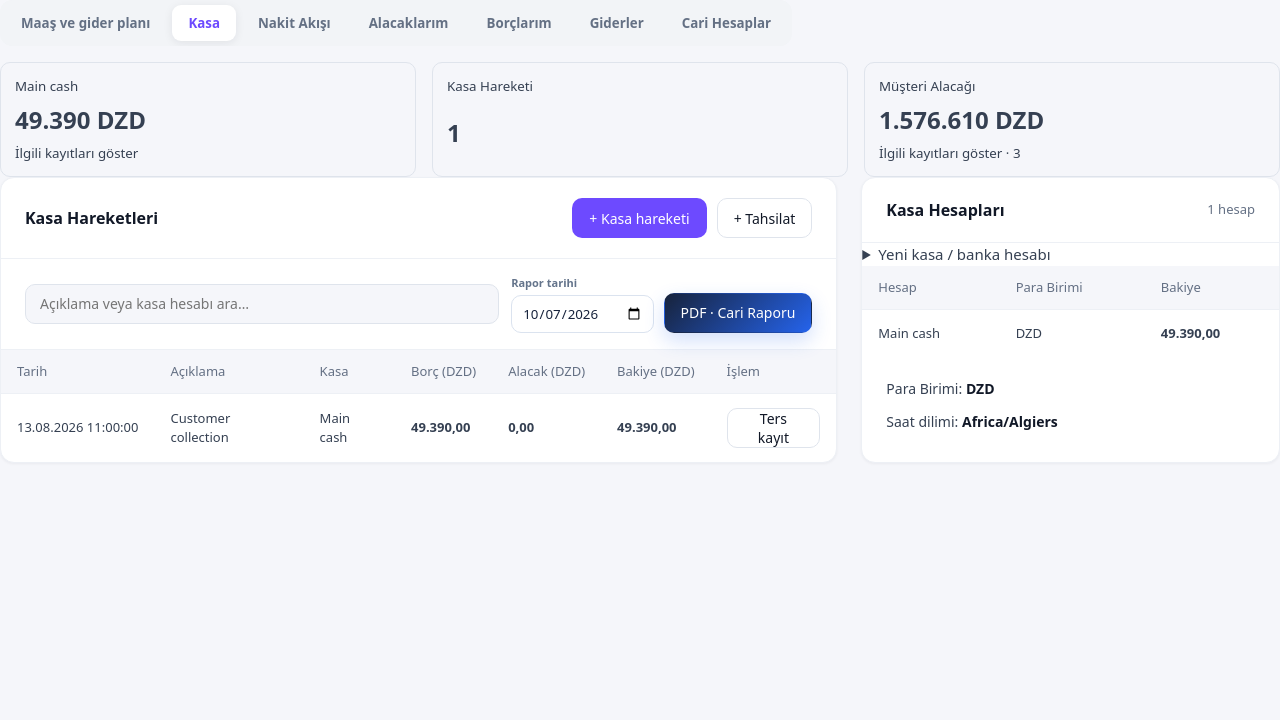
Test: FinanceModule localization › records a collection in the selected account and preserves fields after a failure
Expected: the text "Customer collection" is shown, [154,394,304,462]
Click the button "+ Tahsilat".
click(765, 218)  # box [717,198,812,238]
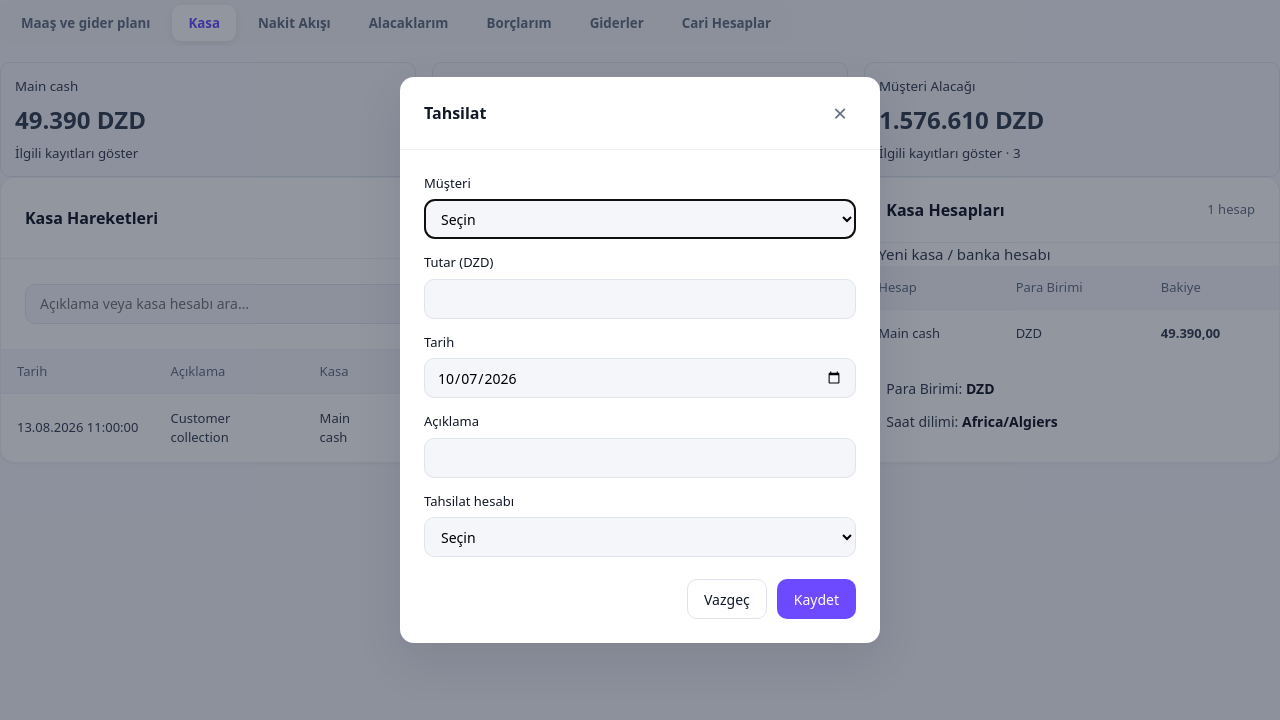
Select "Atlas Textile" in the dropdown labelled "Müşteri" at {"x": 640, "y": 219}, box [424,199,856,239]
Type "1000" into the number field.
click(640, 299); type("1000")  # box [424,279,856,319]
Type "Kısmi tahsilat" into the field labelled "Açıklama".
click(640, 458); type("Kısmi tahsilat")  # box [424,438,856,478]
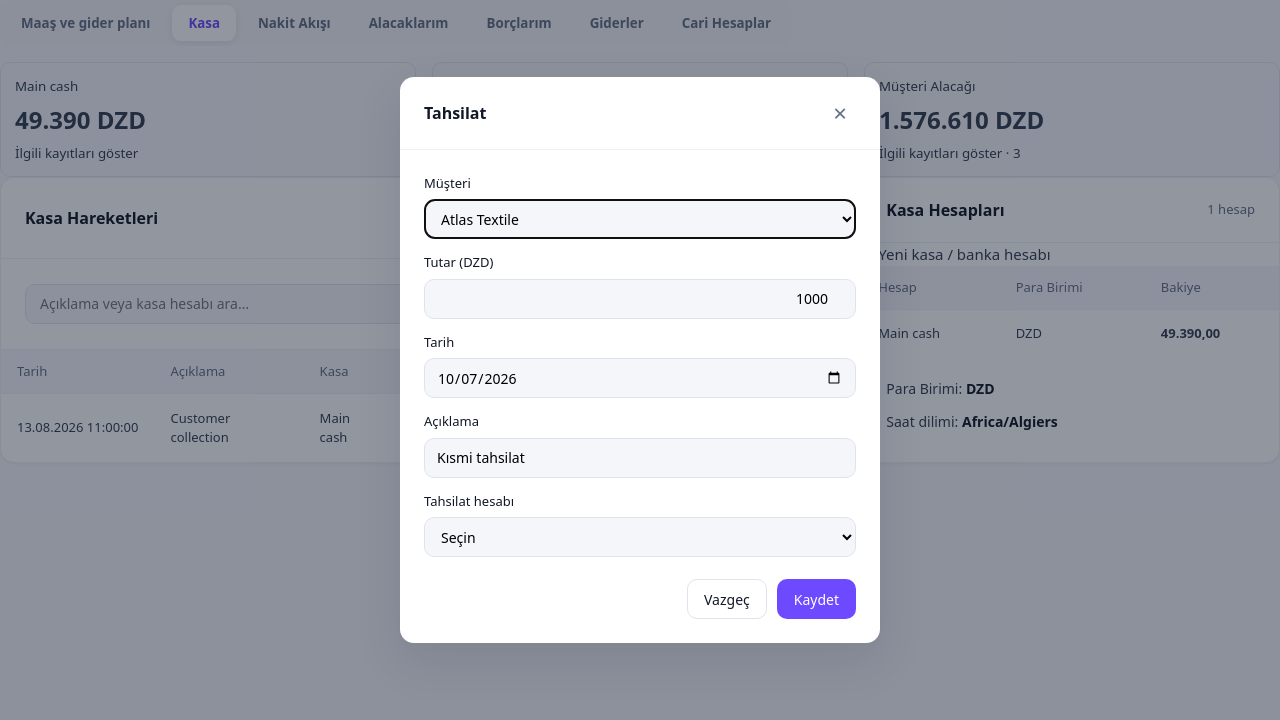
Submit the form, box [424,174,856,619]
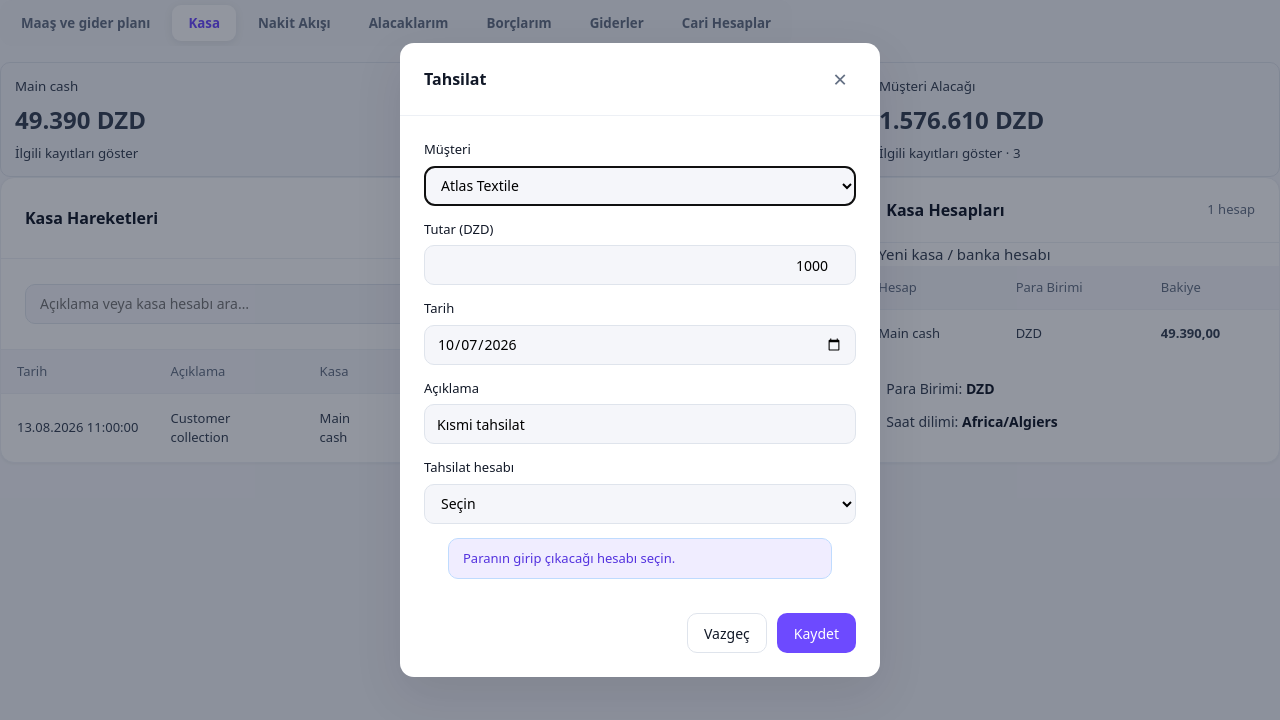
Result: the message reads "Paranın girip çıkacağı hesabı seçin." at [463,548,675,566]
Select "MAIN — Main cash" in the dropdown labelled "Tahsilat hesabı" at {"x": 640, "y": 504}, box [424,484,856,524]
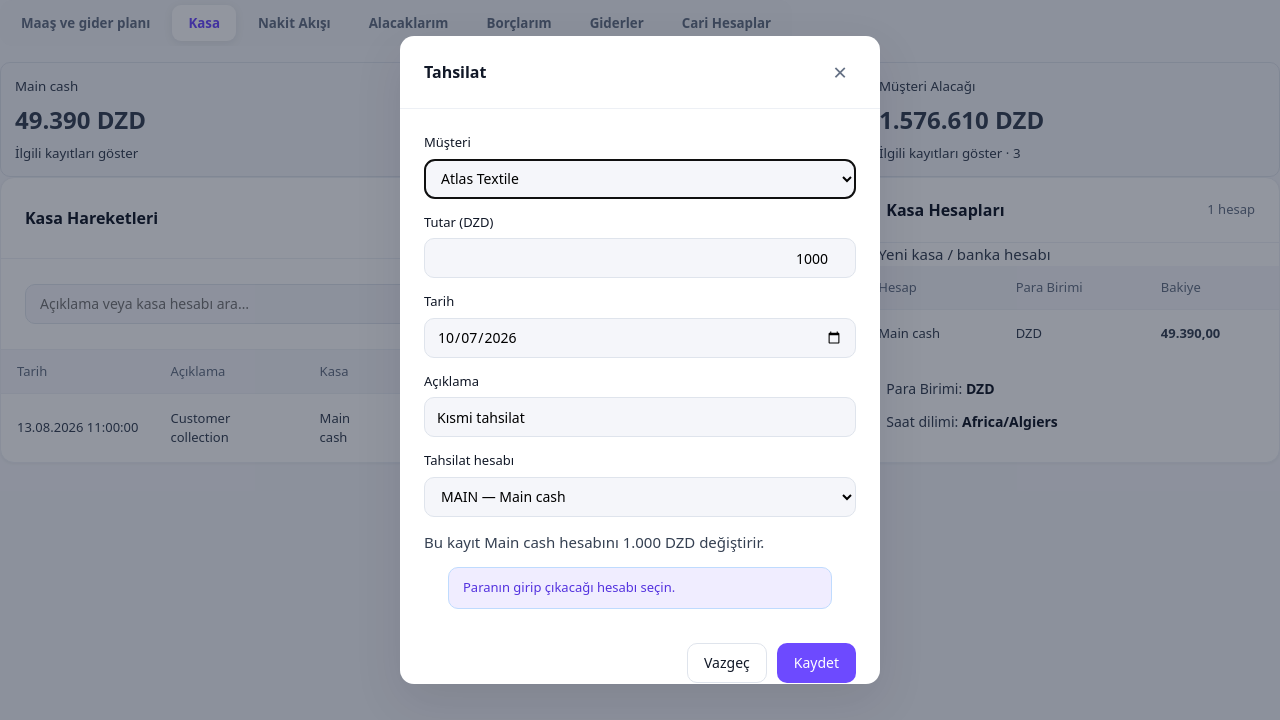
Submit the form, box [424,133,856,682]
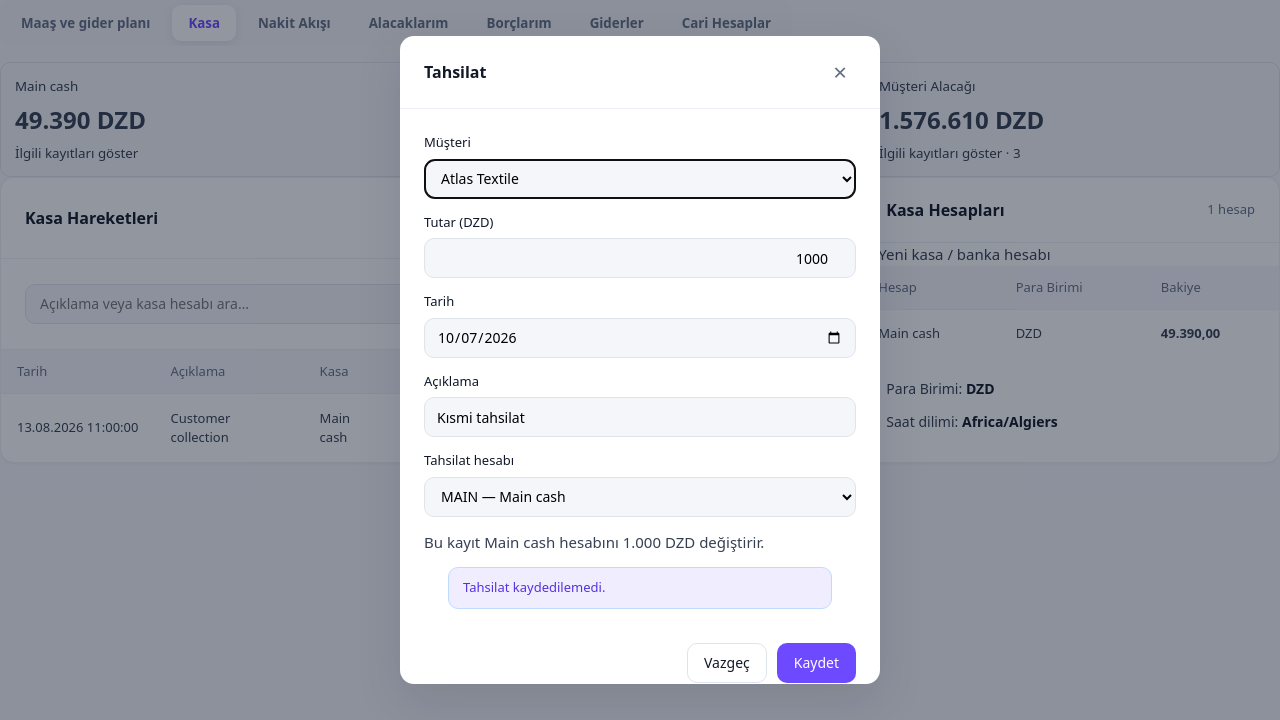
Result: the message "Tahsilat kaydedilemedi." no longer shows "Paranın girip çıkacağı" at [448,567,832,608]
Submit the form, box [424,133,856,682]
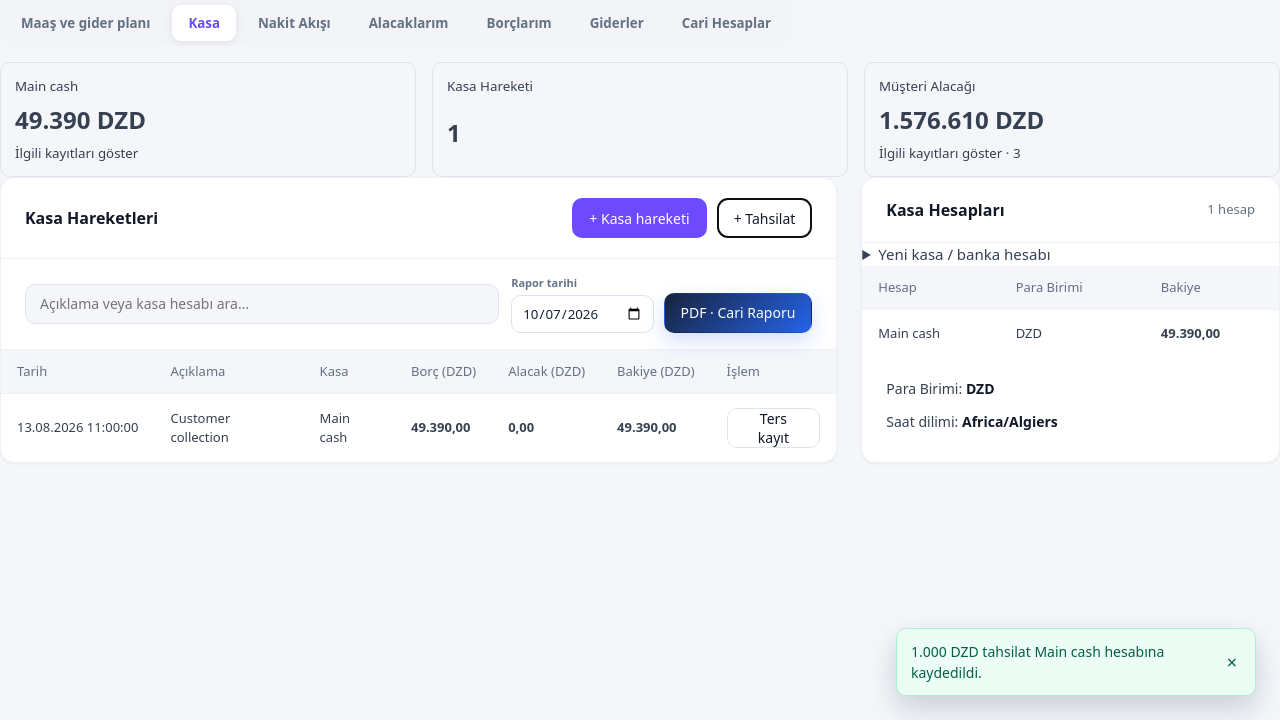
Result: the dialog is gone
Result: the text "1.000 DZD tahsilat Main cash hesabına kaydedildi." is shown at [911,642,1164,682]
